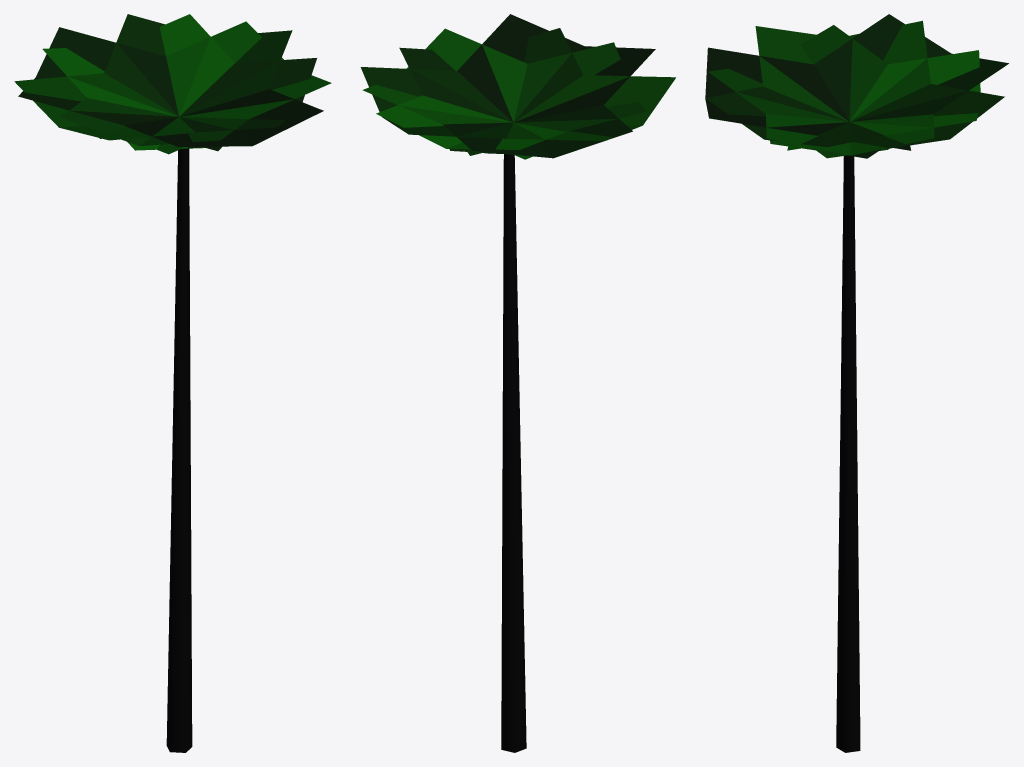
The picture shows the model from 3 angles, left to right: view 1: azimuth 30°, elevation 25°; view 2: azimuth 150°, elevation 25°; view 3: azimuth 270°, elevation 25°; orthographic projection.
Visible parts, largest first — view 1: IL3DN_Plant_Flower_03_LOD0; view 2: IL3DN_Plant_Flower_03_LOD0; view 3: IL3DN_Plant_Flower_03_LOD0.
Boxes of the visible parts, box(x1,y1,x2,y2) form: IL3DN_Plant_Flower_03_LOD0: box(14, 14, 331, 752); IL3DN_Plant_Flower_03_LOD0: box(360, 14, 675, 752); IL3DN_Plant_Flower_03_LOD0: box(705, 14, 1008, 752).
Size of what is drawn, in the model's own units: 58.71 by 137 by 56.76.
